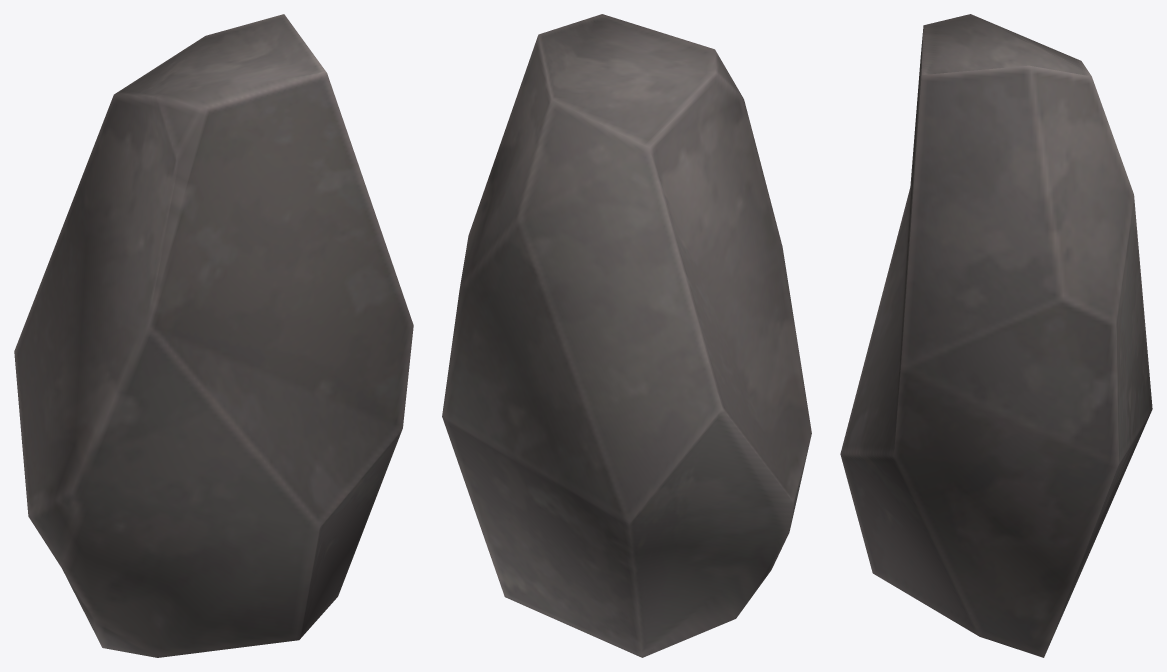
File: obj_stone03.gltf
The picture shows the model from 3 angles, left to right: view 1: azimuth 30°, elevation 25°; view 2: azimuth 150°, elevation 25°; view 3: azimuth 270°, elevation 25°; orthographic projection. The views are drawn at different scales.
Visible parts, largest first — view 1: obj_stone03; view 2: obj_stone03; view 3: obj_stone03.
Part boxes in pixels (x1,y1,x2,y2): obj_stone03: [14, 14, 413, 657]; obj_stone03: [442, 14, 811, 657]; obj_stone03: [840, 14, 1152, 657].
Size of what is drawn, in the model's own units: 1.34 by 2.4 by 1.13.
Materials: 1 (1 with a texture image).
